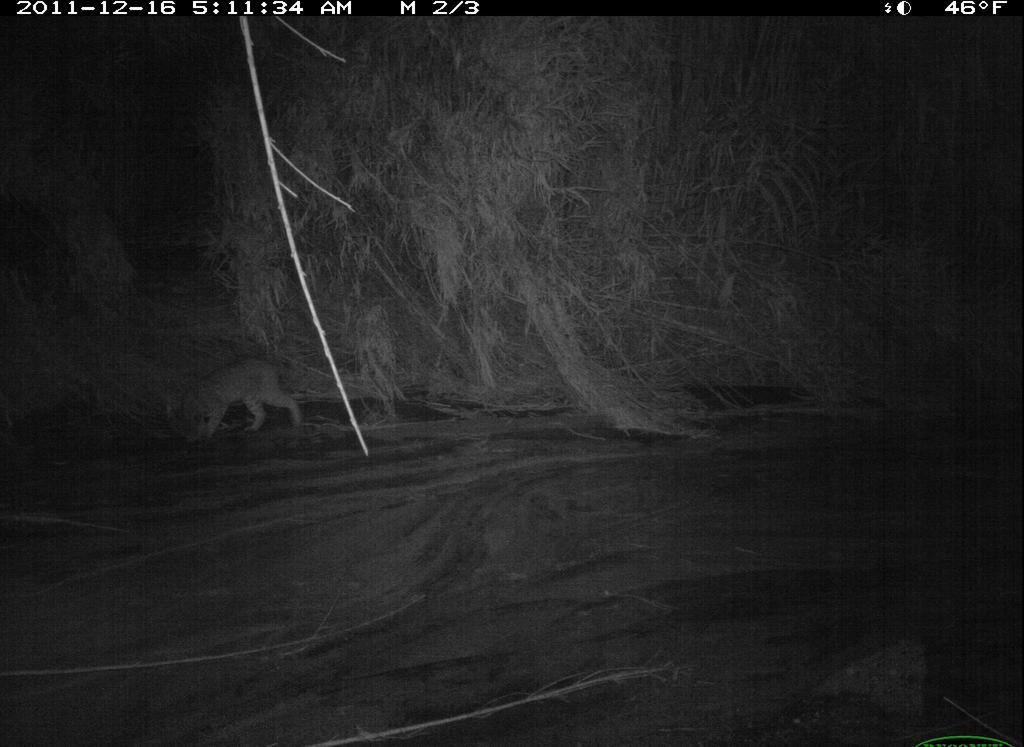bobcat: (162, 351, 312, 449)
